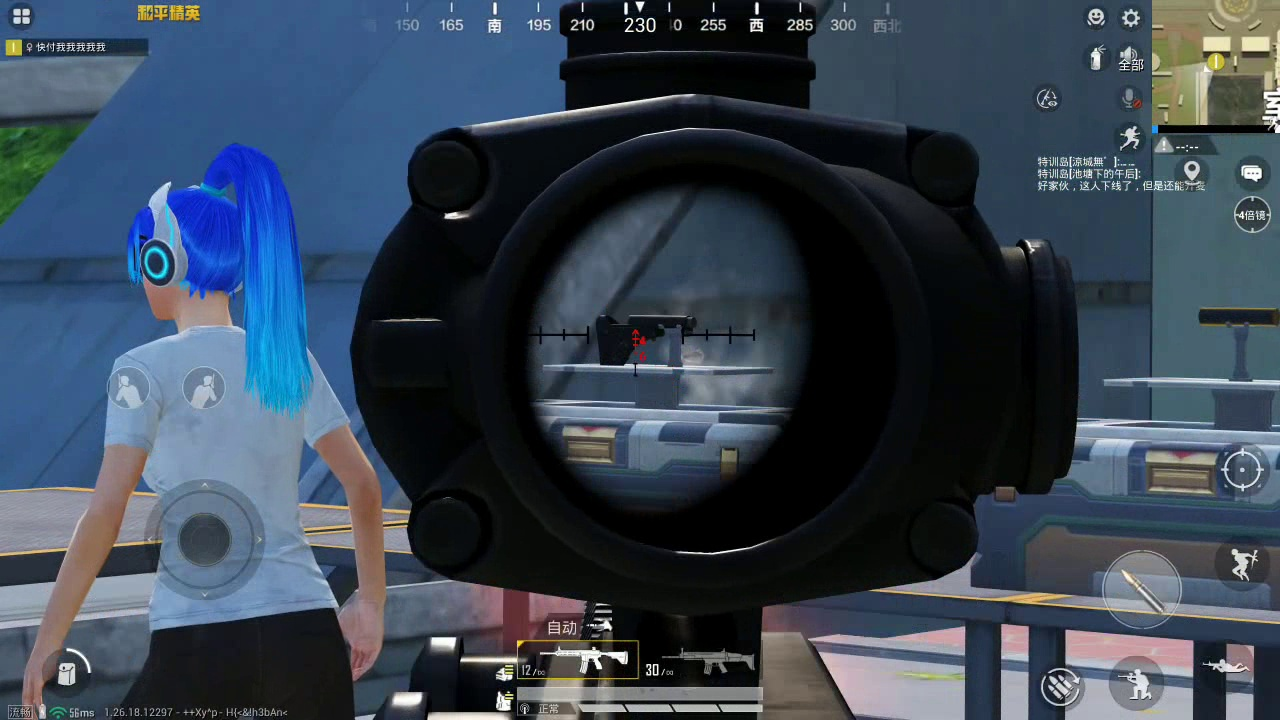enemy: (18, 144, 389, 717)
